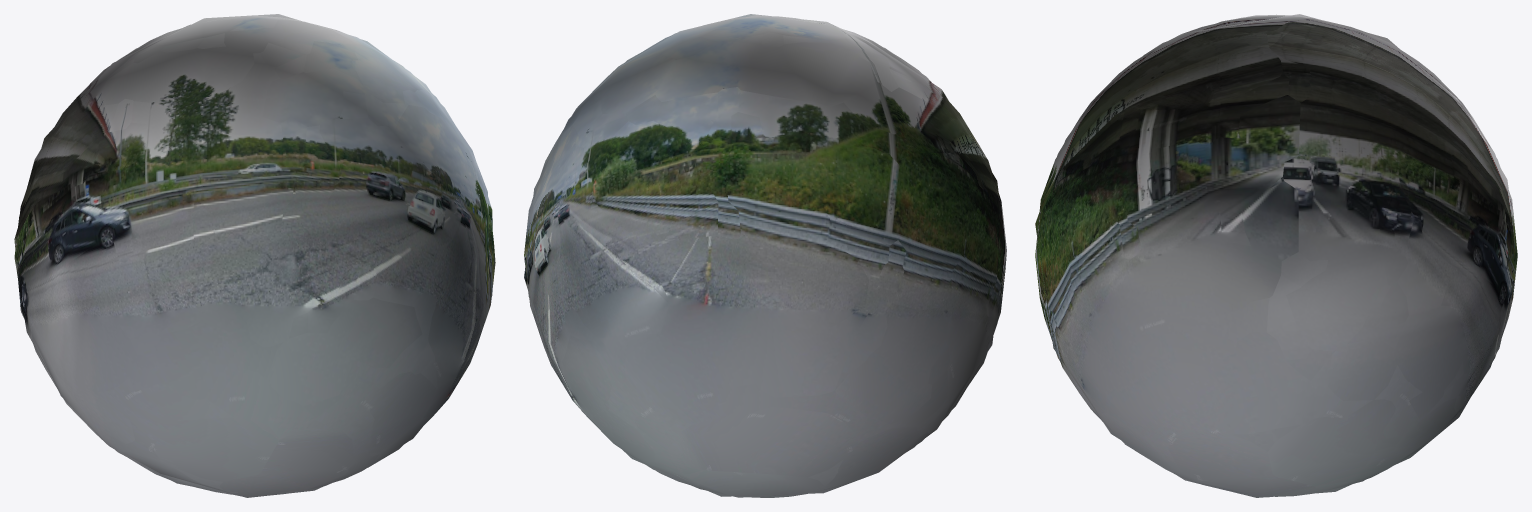
Rendered from __lods__Overtaking-HDRI.glb.
3 views of the same model, side by side, from view 1: azimuth 30°, elevation 25°; view 2: azimuth 150°, elevation 25°; view 3: azimuth 270°, elevation 25° (orthographic).
Parts seen in each view (by area): view 1: __LOD_2__Sphere, __LOD_1__Sphere, __LOD_0__Sphere; view 2: __LOD_2__Sphere, __LOD_1__Sphere, __LOD_0__Sphere; view 3: __LOD_2__Sphere, __LOD_1__Sphere, __LOD_0__Sphere.
Boxes of the visible parts, bbox=[...] form: __LOD_2__Sphere: bbox=[14, 14, 489, 497]; __LOD_1__Sphere: bbox=[14, 15, 493, 496]; __LOD_0__Sphere: bbox=[16, 16, 495, 494]; __LOD_2__Sphere: bbox=[524, 14, 998, 496]; __LOD_1__Sphere: bbox=[524, 15, 1006, 497]; __LOD_0__Sphere: bbox=[525, 16, 1006, 497]; __LOD_2__Sphere: bbox=[1035, 14, 1517, 497]; __LOD_1__Sphere: bbox=[1035, 15, 1517, 497]; __LOD_0__Sphere: bbox=[1035, 14, 1517, 496].
Size of the model in its own units: 2 by 2 by 2.
Materials: 1 (1 with a texture image).
